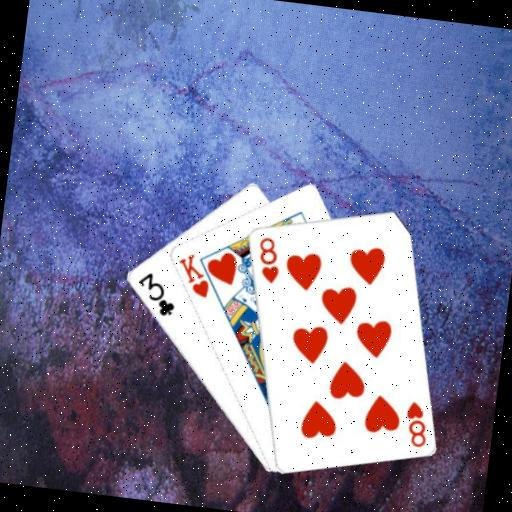3C: (131, 268, 180, 319)
8H: (251, 233, 284, 286), (399, 397, 432, 450)
KH: (171, 249, 214, 301)
